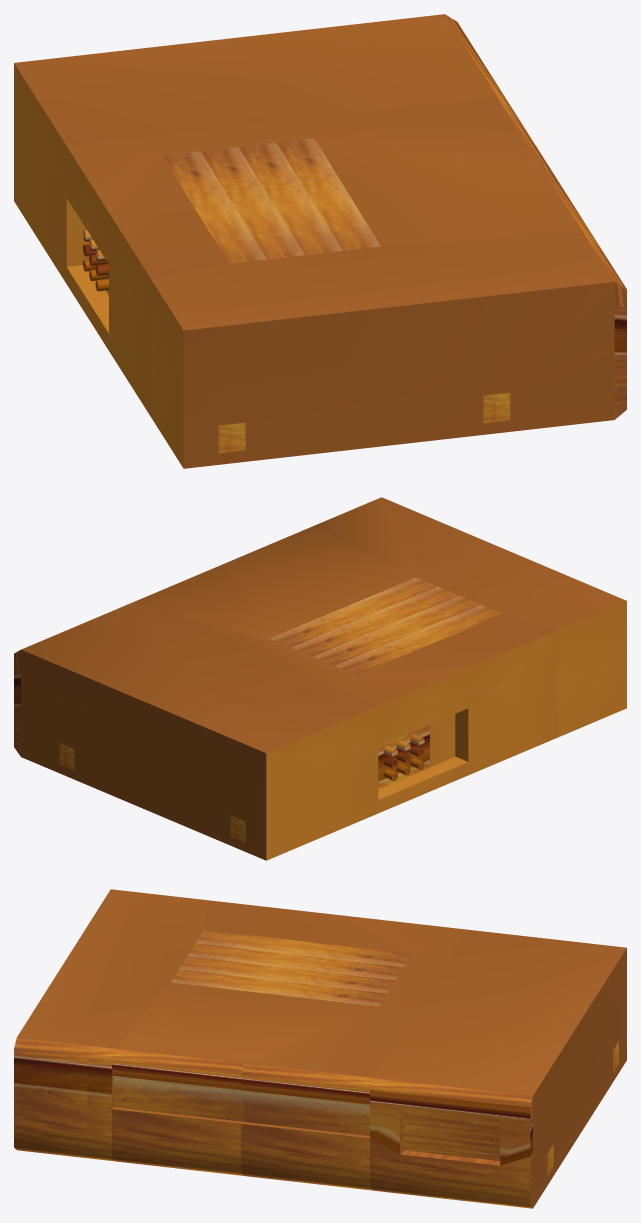
3 views of the same model, one above another, from view 1: azimuth 30°, elevation 25°; view 2: azimuth 150°, elevation 25°; view 3: azimuth 270°, elevation 25° (orthographic). The views are drawn at different scales.
Visible parts, largest first — view 1: Joint_0_Object_0, Joint_0_Object_1; view 2: Joint_0_Object_0, Joint_0_Object_1; view 3: Joint_0_Object_0, Joint_0_Object_1, Joint_0_Object_2.
Boxes of the visible parts, x1=… form: Joint_0_Object_0: x1=14, y1=14, x2=614, y2=468; Joint_0_Object_1: x1=445, y1=14, x2=626, y2=419; Joint_0_Object_0: x1=21, y1=497, x2=626, y2=860; Joint_0_Object_1: x1=14, y1=650, x2=20, y2=756; Joint_0_Object_0: x1=17, y1=889, x2=626, y2=1207; Joint_0_Object_1: x1=14, y1=1037, x2=532, y2=1208; Joint_0_Object_2: x1=400, y1=1108, x2=500, y2=1165.
Bounding box in the file's own units: 804 × 225 × 986.
